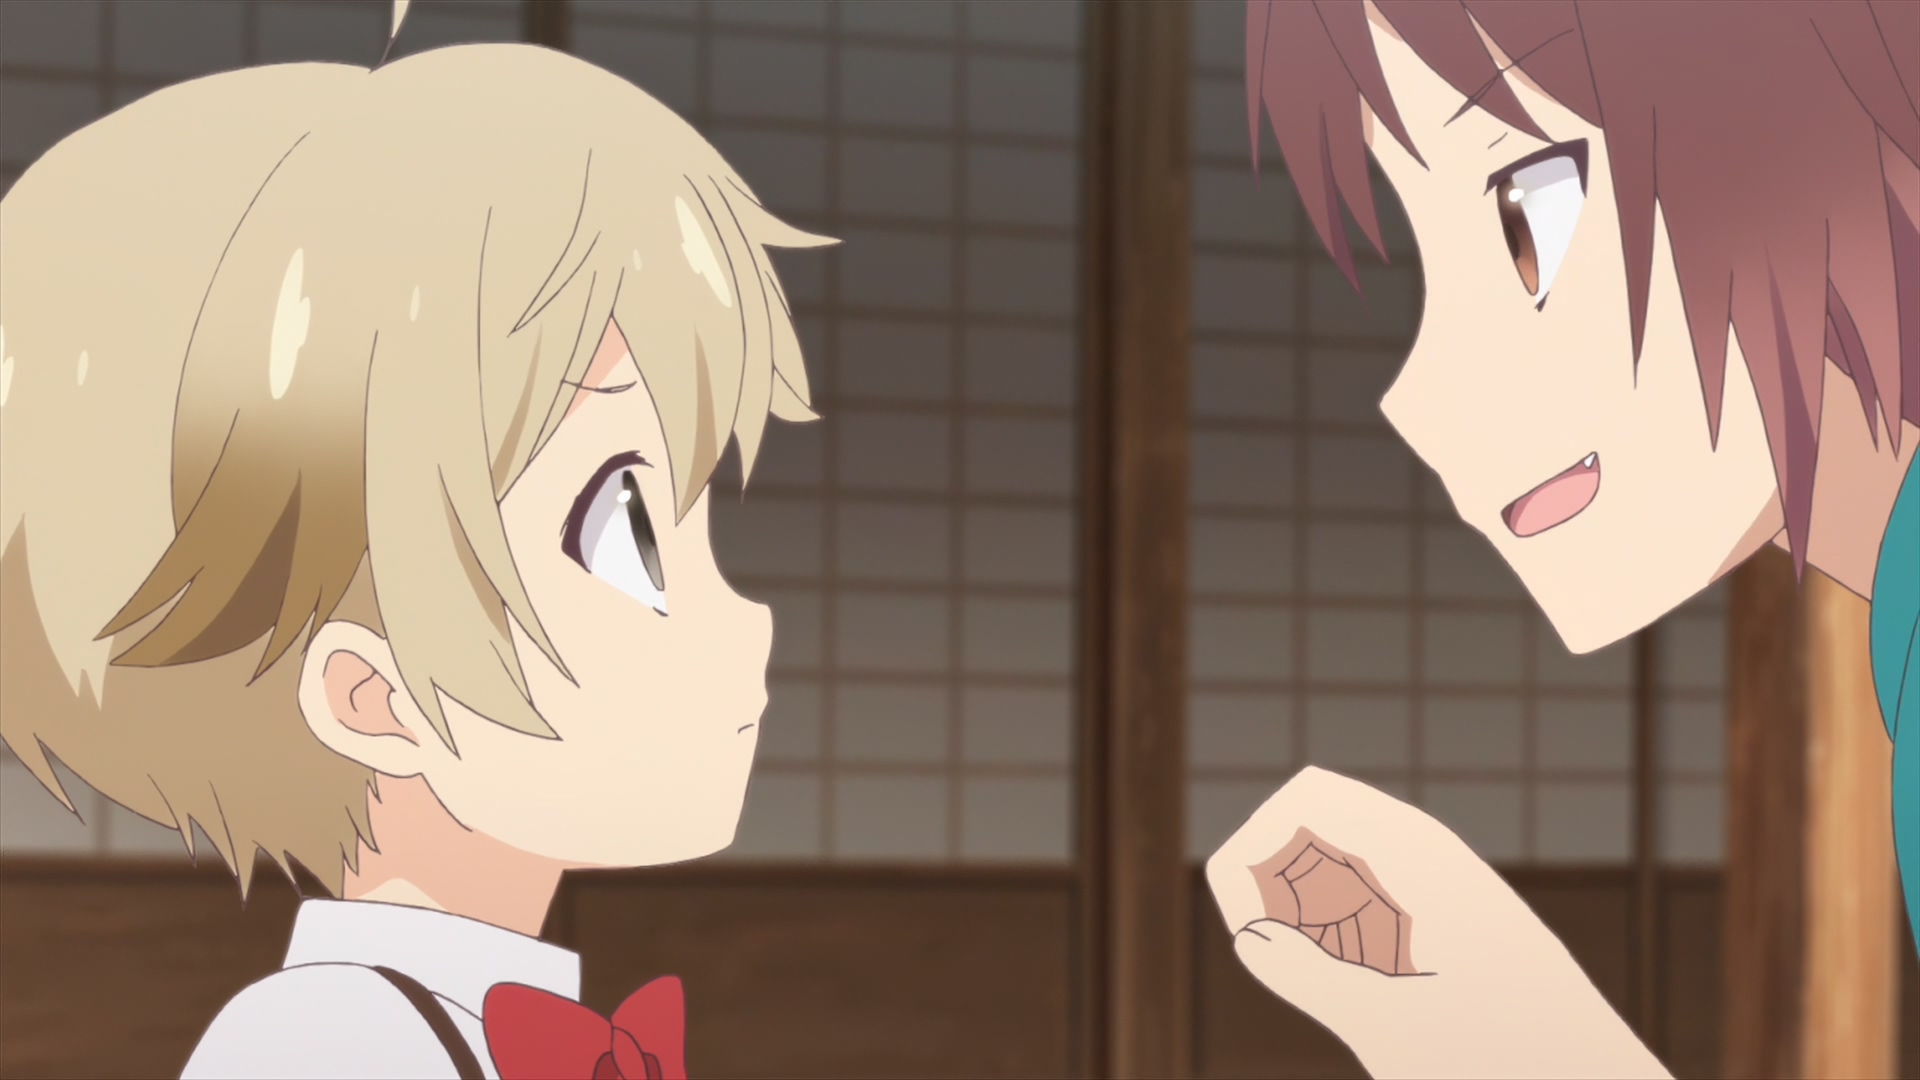其他: (1, 1, 845, 1080)
枣: (1204, 1, 1920, 1080)
